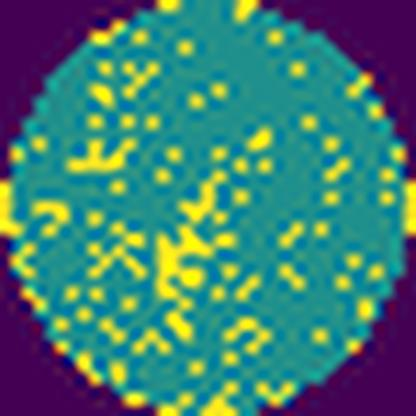Loc: (150, 220, 212, 308), (180, 172, 234, 219)
